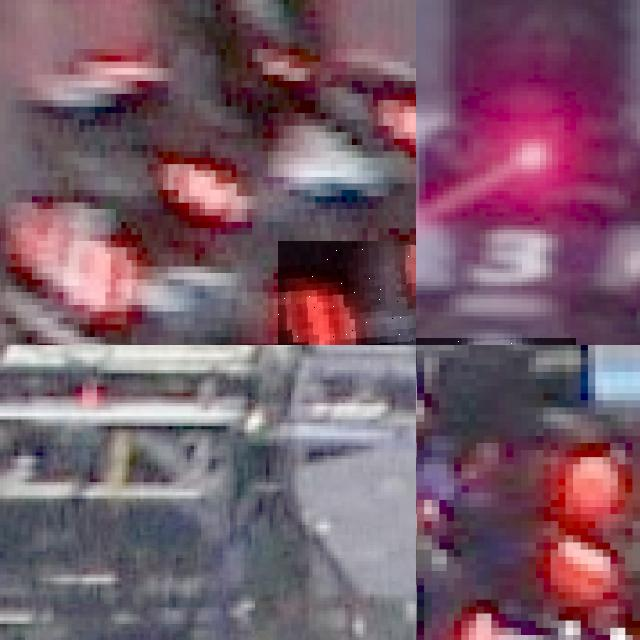R1: (558, 485, 640, 571), (416, 571, 499, 640)
R4: (278, 241, 416, 345)
